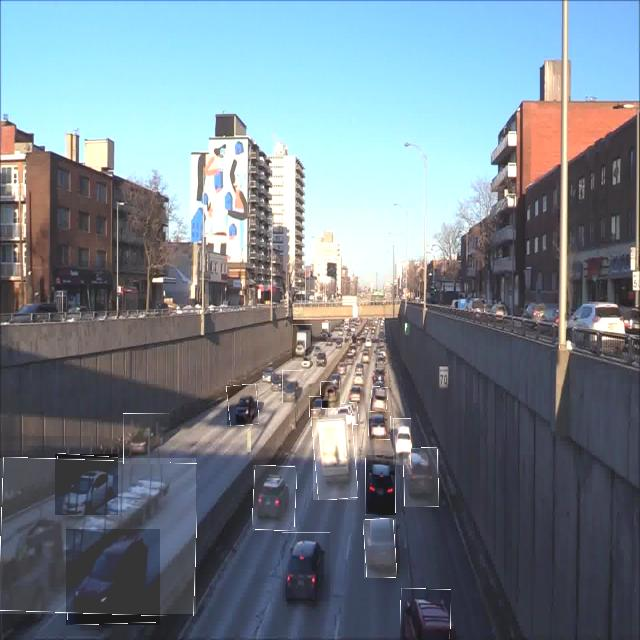Car: (66, 529, 160, 625), (55, 454, 118, 515), (282, 532, 330, 601), (253, 465, 296, 531), (400, 588, 451, 640), (123, 413, 170, 464), (403, 448, 439, 507), (364, 519, 396, 578), (366, 455, 396, 515), (227, 385, 258, 425), (393, 418, 411, 465), (282, 370, 303, 403), (369, 412, 391, 440), (321, 381, 340, 408), (340, 402, 359, 426), (370, 387, 388, 412), (310, 396, 328, 417), (345, 382, 365, 398)
Truck: (0, 458, 196, 614), (313, 407, 357, 500), (292, 324, 312, 361)
